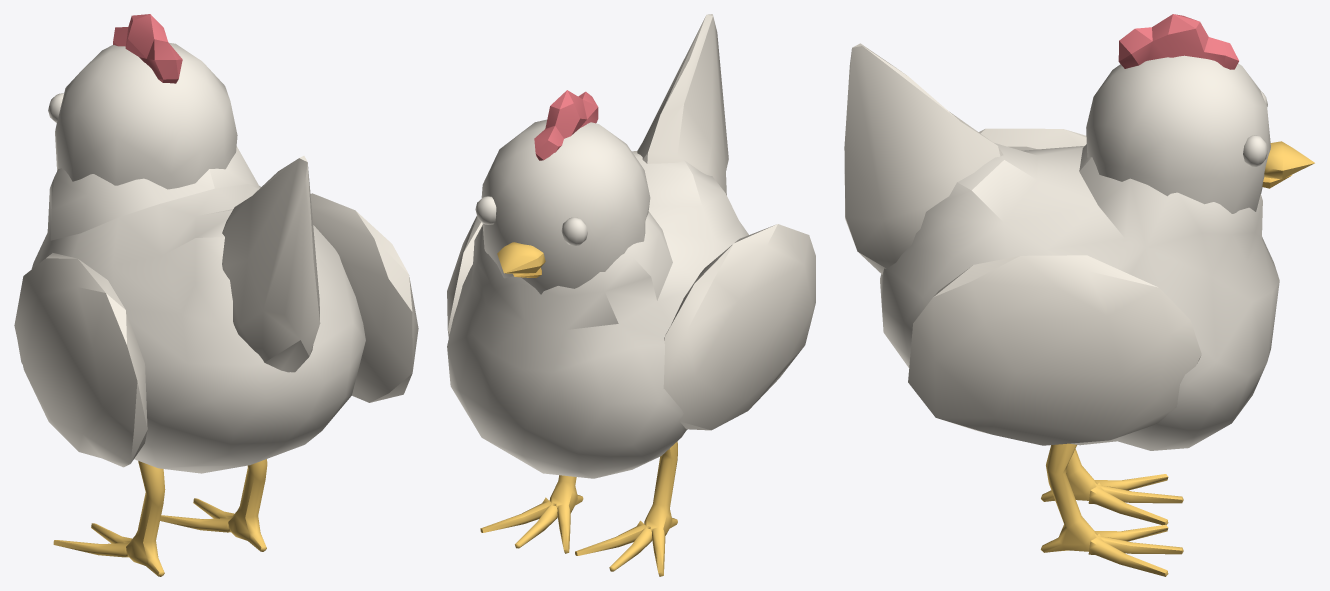
The model's file is Chicken.glb.
The picture shows the model from 3 angles, left to right: view 1: azimuth 30°, elevation 25°; view 2: azimuth 150°, elevation 25°; view 3: azimuth 270°, elevation 25°; orthographic projection. The views are drawn at different scales.
Visible parts, largest first — view 1: Chicken__Body, Chicken__WingL, Chicken__Head, Chicken__Tail, Chicken__WingR, Chicken__LegL, Chicken__LegR, Chicken__Comb; view 2: Chicken__Body, Chicken__WingL, Chicken__Head, Chicken__Tail, Chicken__LegL, Chicken__LegR, Chicken__Comb, Chicken__WingR, Chicken__Beak, Chicken__LidL, Chicken__LidR; view 3: Chicken__Body, Chicken__WingR, Chicken__Head, Chicken__Tail, Chicken__LegR, Chicken__Comb, Chicken__LegL, Chicken__WingL, Chicken__Beak, Chicken__LidR.
Boxes of the visible parts, box(x1,y1,x2,y2) form: Chicken__Body: box(18, 146, 365, 473); Chicken__WingL: box(14, 253, 147, 467); Chicken__Head: box(55, 43, 237, 189); Chicken__Tail: box(222, 156, 320, 372); Chicken__WingR: box(310, 193, 418, 402); Chicken__LegL: box(53, 461, 165, 576); Chicken__LegR: box(160, 459, 267, 551); Chicken__Comb: box(113, 14, 182, 83); Chicken__Body: box(447, 151, 748, 478); Chicken__WingL: box(663, 224, 815, 430); Chicken__Head: box(481, 119, 650, 294); Chicken__Tail: box(637, 14, 728, 195); Chicken__LegL: box(575, 441, 677, 576); Chicken__LegR: box(480, 475, 583, 553); Chicken__Comb: box(534, 90, 598, 160); Chicken__WingR: box(447, 216, 482, 337); Chicken__Beak: box(497, 242, 545, 273); Chicken__LidL: box(561, 217, 587, 245); Chicken__LidR: box(475, 196, 496, 224); Chicken__Body: box(880, 143, 1279, 450); Chicken__WingR: box(908, 255, 1201, 445); Chicken__Head: box(1086, 55, 1270, 213); Chicken__Tail: box(844, 43, 1003, 274); Chicken__LegR: box(1040, 443, 1183, 576); Chicken__Comb: box(1118, 14, 1238, 69); Chicken__LegL: box(1041, 449, 1183, 525); Chicken__WingL: box(979, 128, 1086, 150); Chicken__Beak: box(1264, 141, 1314, 179); Chicken__LidR: box(1243, 135, 1267, 166).
Size of the model in its own units: 3.41 by 5.19 by 4.3.
